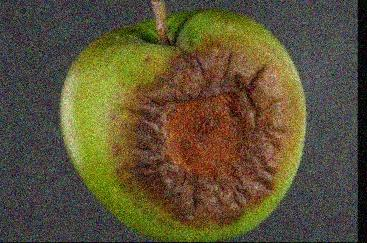rotten apple: (55, 6, 308, 242)
